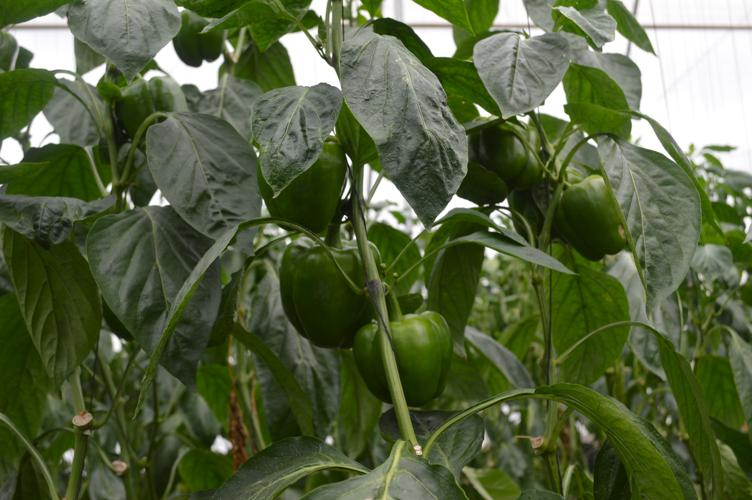BellPepper: (273, 233, 387, 353), (351, 317, 460, 410), (255, 138, 348, 246), (549, 171, 637, 271), (459, 112, 550, 194), (113, 72, 198, 139), (168, 4, 232, 69)
